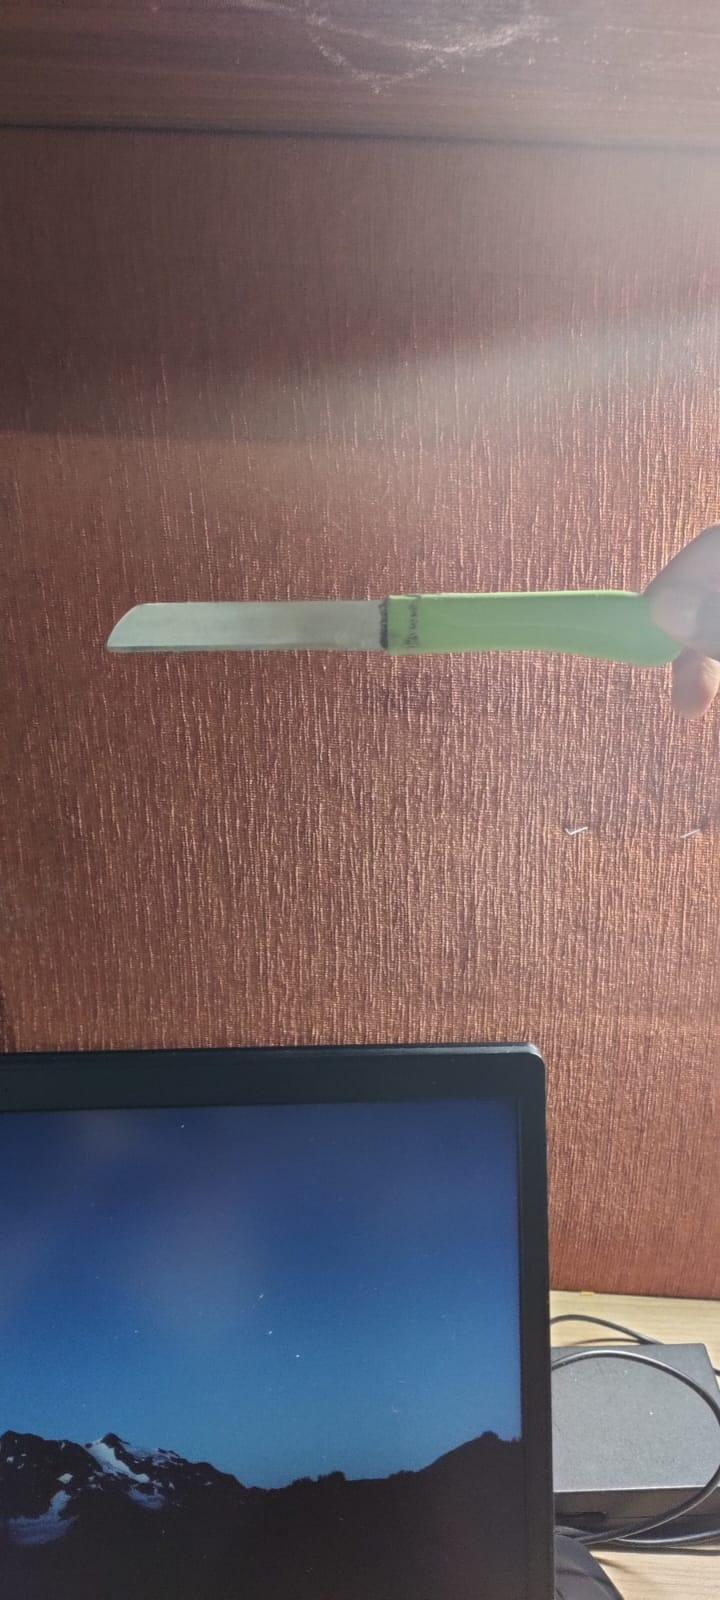knife: (97, 592, 695, 662)
